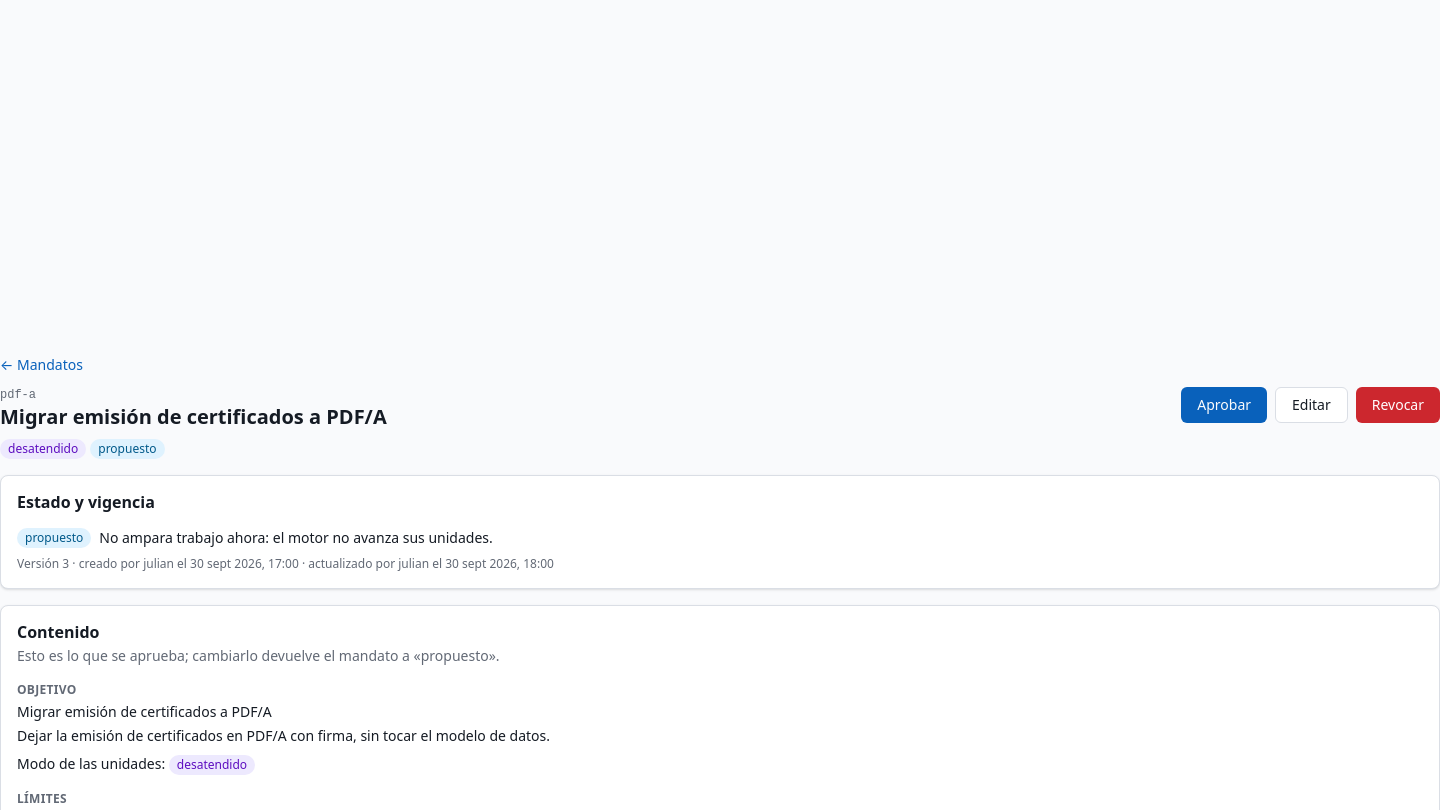
Scenario: detalle de un mandato › aprobar y renovar › aprobar un propuesto muestra el contenido íntegro y la huella, y la envía con la versión vista y el comentario
(page scrolled)
Click the button "Aprobar" at (1224, 405), box top-left (1181, 387), bottom-right (1267, 423)
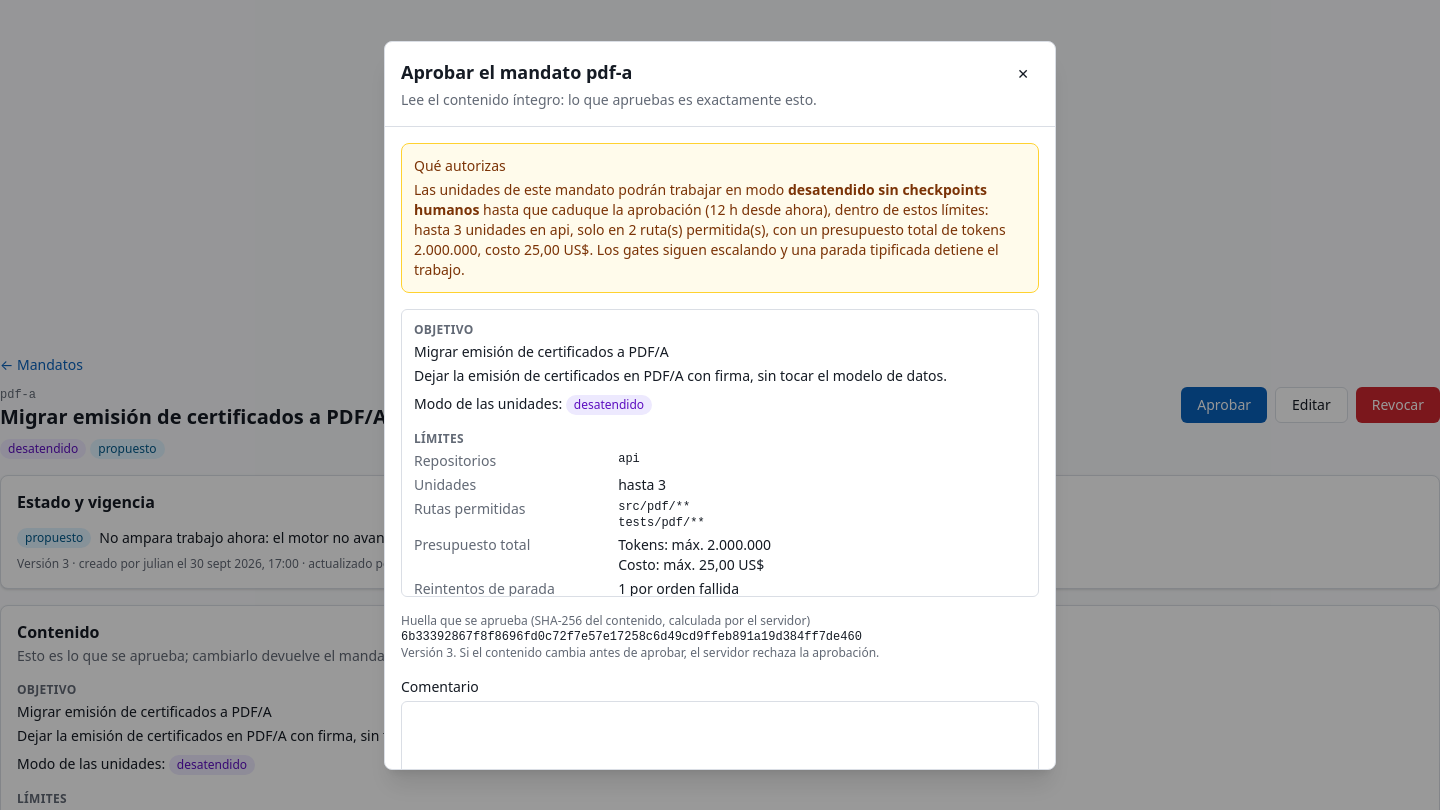
Check: the text "sin checkpoints humanos" is shown, box top-left (414, 180), bottom-right (987, 218)
Check: the text "hasta 3 unidades en api" is shown, box top-left (414, 180), bottom-right (1026, 280)
Check: the list item "src/pdf/**" is shown, box top-left (618, 500), bottom-right (690, 514)
Type "  Esta noche  " into the text box labelled "Comentario" at (720, 740), box top-left (401, 700), bottom-right (1039, 780)
(page scrolled)
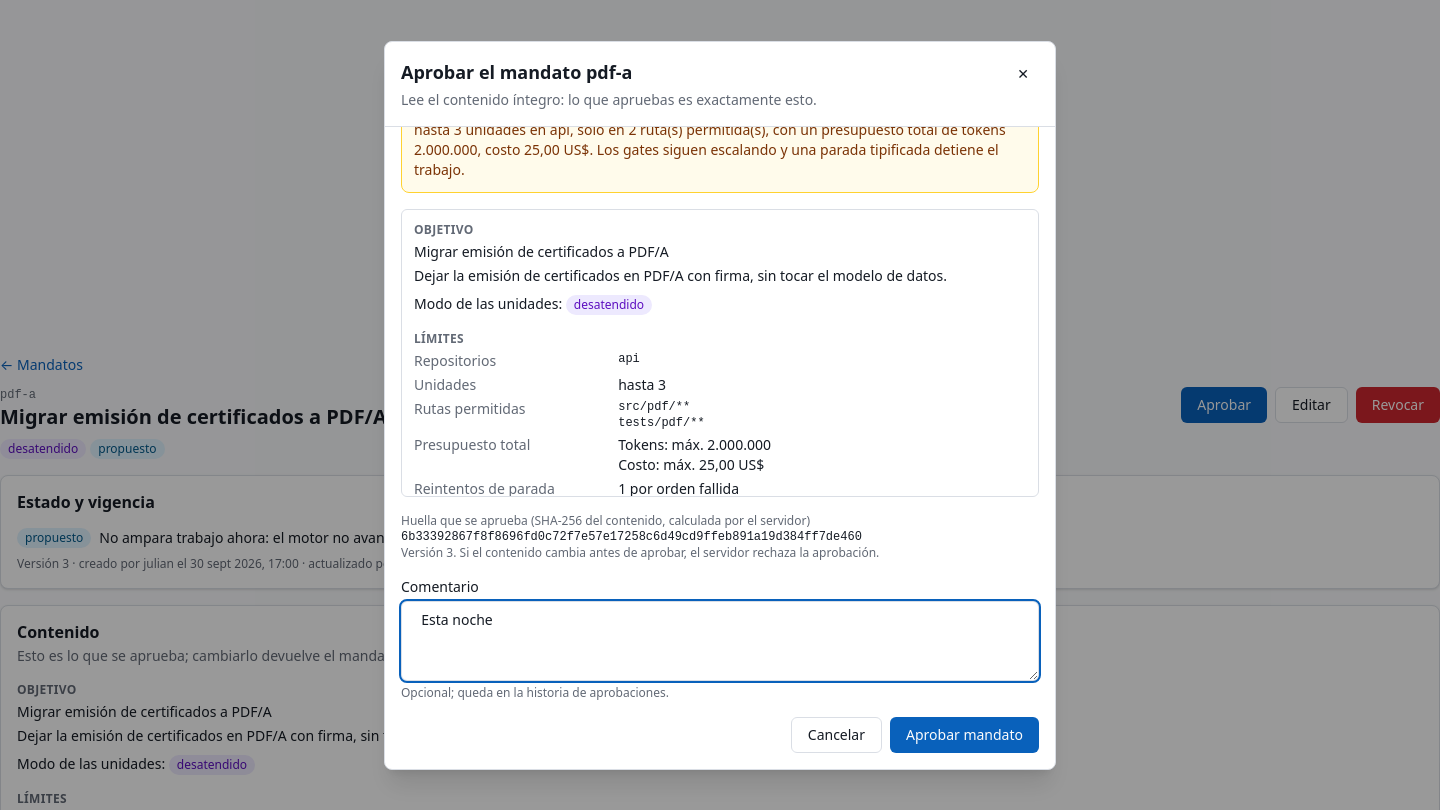
Click the button "Aprobar mandato" at (964, 734), box top-left (890, 716), bottom-right (1039, 752)
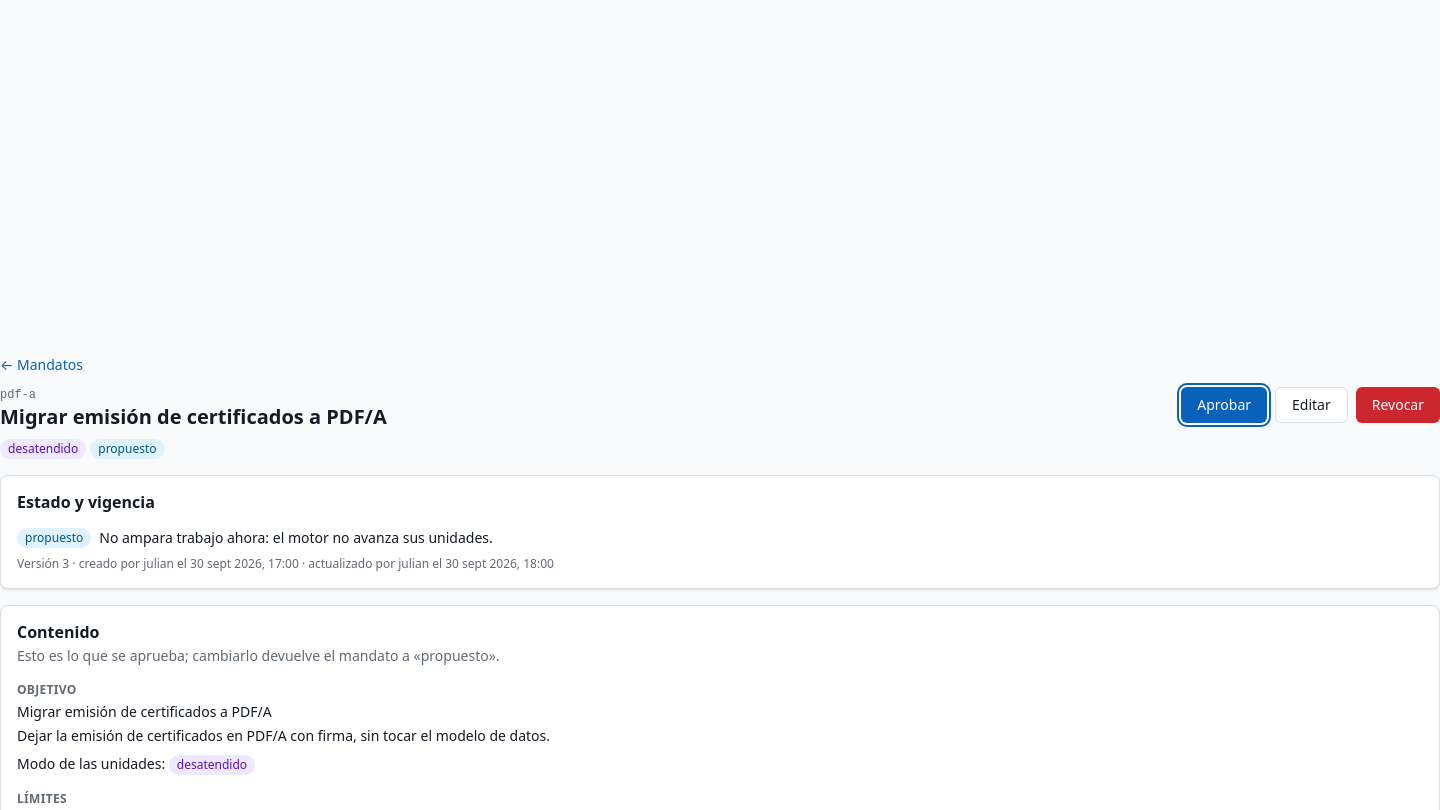
Check: the dialog is gone
